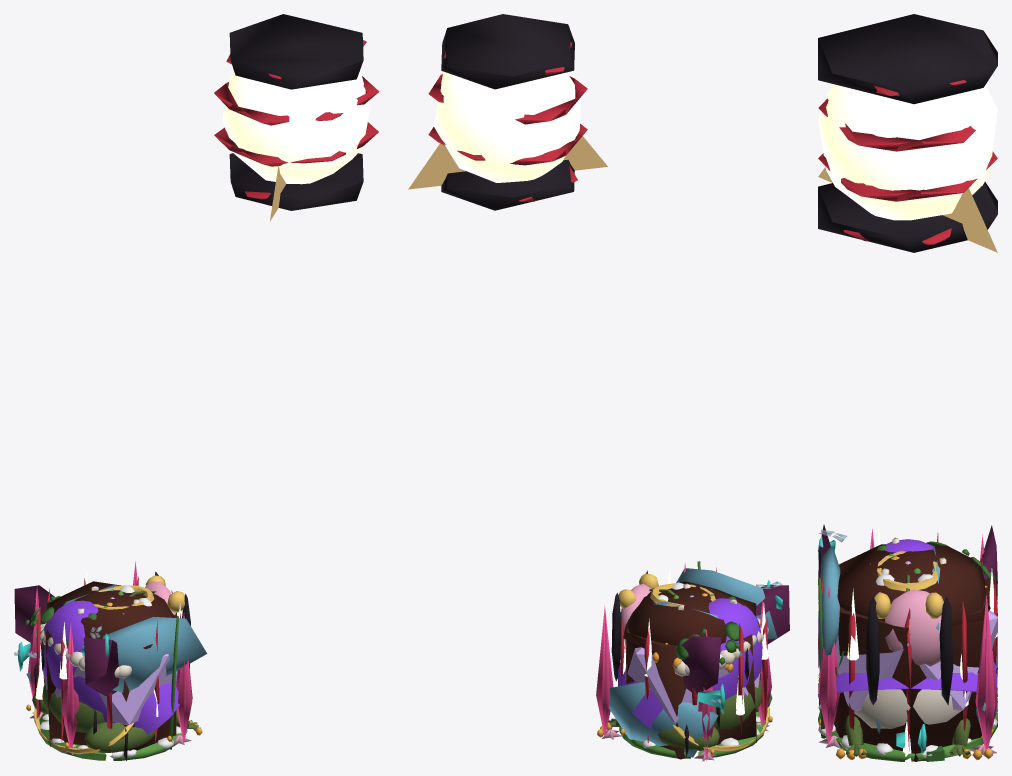
File: maitre-marais-leger.glb
3 renders of one model, left to right at view 1: azimuth 30°, elevation 25°; view 2: azimuth 150°, elevation 25°; view 3: azimuth 270°, elevation 25°, orthographic. The views are drawn at different scales.
Parts seen in each view (by area): view 1: maitre_marais_corps, maitre_marais_lanterne, maitre_marais_flammes; view 2: maitre_marais_corps, maitre_marais_lanterne, maitre_marais_flammes, maitre_marais_libellules; view 3: maitre_marais_lanterne, maitre_marais_corps, maitre_marais_flammes, maitre_marais_libellules.
Part boxes in pixels (x1,y1,x2,y2): maitre_marais_corps: (14, 561, 207, 761); maitre_marais_lanterne: (214, 14, 379, 220); maitre_marais_flammes: (35, 571, 181, 761); maitre_marais_corps: (596, 561, 789, 761); maitre_marais_lanterne: (408, 14, 607, 210); maitre_marais_flammes: (623, 569, 768, 759); maitre_marais_libellules: (698, 580, 782, 714); maitre_marais_lanterne: (818, 14, 997, 252); maitre_marais_corps: (818, 524, 997, 761); maitre_marais_flammes: (818, 525, 997, 761); maitre_marais_libellules: (818, 529, 997, 760).
Bounding box in the file's own units: 4.9 × 9.6 × 2.
